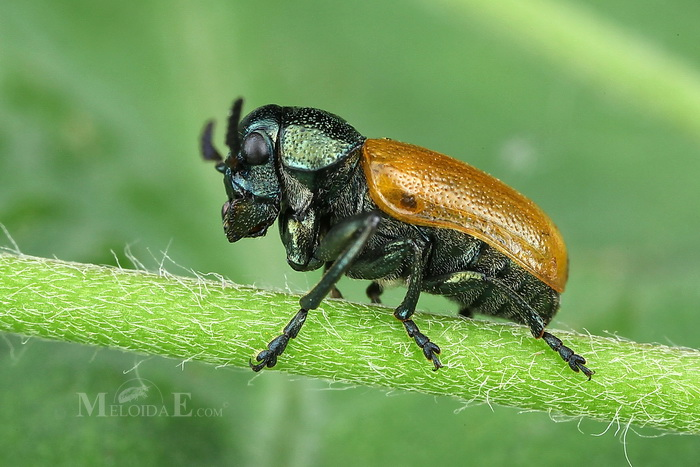Labidostomis_longimana: (190, 92, 606, 402)
